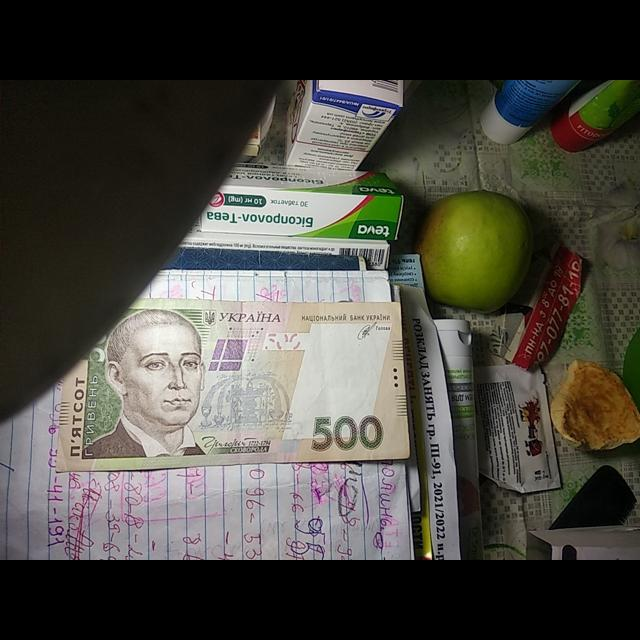500uah: (69, 303, 403, 465)
